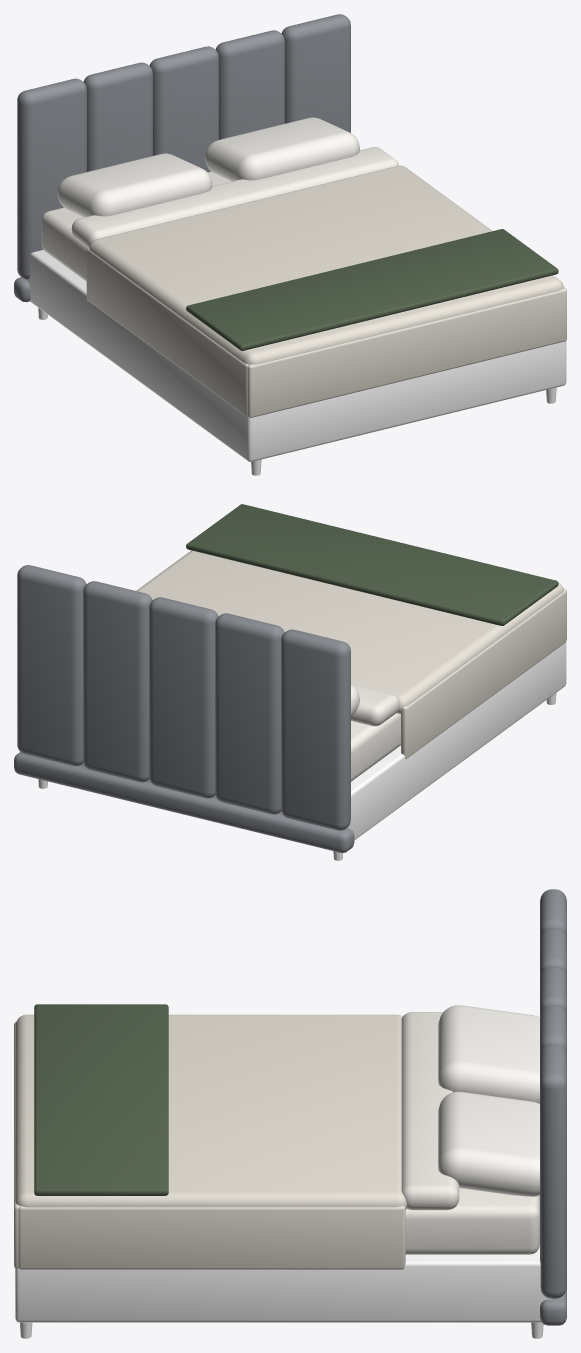
File: cama.glb
3 views of the same model, one above another, from view 1: azimuth 30°, elevation 25°; view 2: azimuth 150°, elevation 25°; view 3: azimuth 270°, elevation 25° (orthographic). The views are drawn at different scales.
Visible parts, largest first — view 1: p; view 2: p; view 3: p.
Part boxes in pixels (<box>): p: <box>14,14,566,475</box>; p: <box>14,504,566,860</box>; p: <box>14,889,566,1338</box>.
Bounding box in the file's own units: 1.72 × 1.1 × 2.05.
